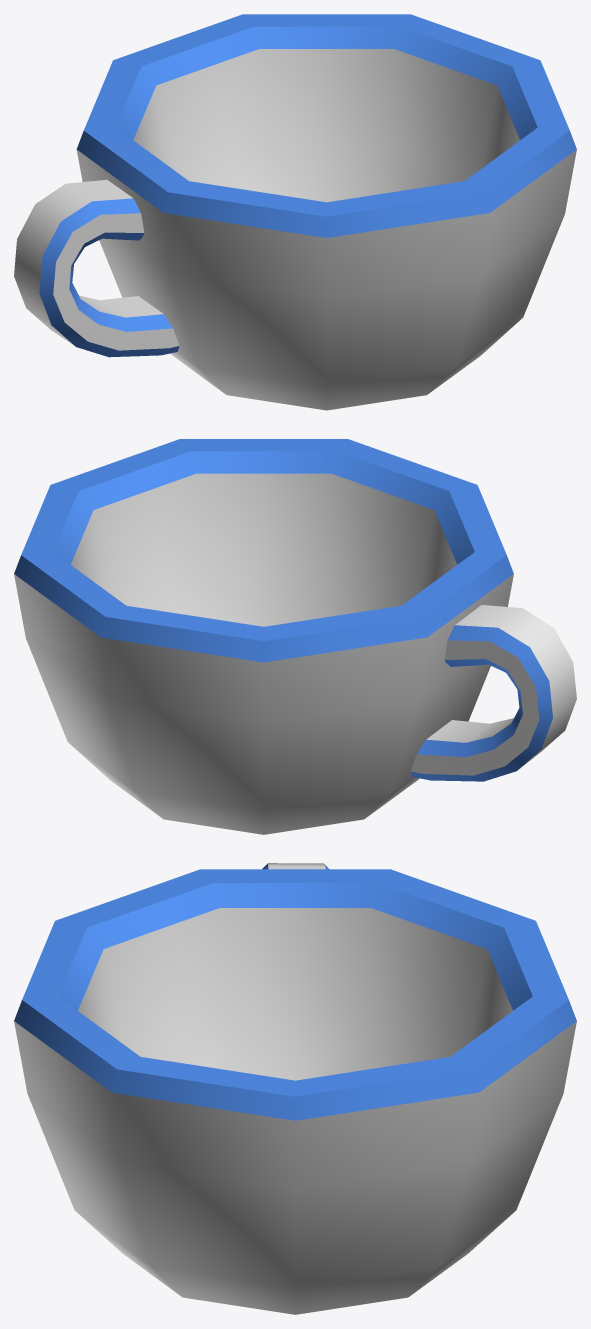
Rendered from CoffeCup_B.glb.
3 renders of one model, top to bottom at view 1: azimuth 30°, elevation 25°; view 2: azimuth 150°, elevation 25°; view 3: azimuth 270°, elevation 25°, orthographic. The views are drawn at different scales.
Visible parts, largest first — view 1: CoffeCup_B; view 2: CoffeCup_B; view 3: CoffeCup_B.
Boxes of the visible parts, x1,y1,x2,y2 form: CoffeCup_B: (14, 14, 576, 410); CoffeCup_B: (14, 439, 576, 834); CoffeCup_B: (14, 863, 576, 1314).
Bounding box in the file's own units: 0.1849 × 0.0822 × 0.1538.
Materials: 1 (1 with a texture image).
